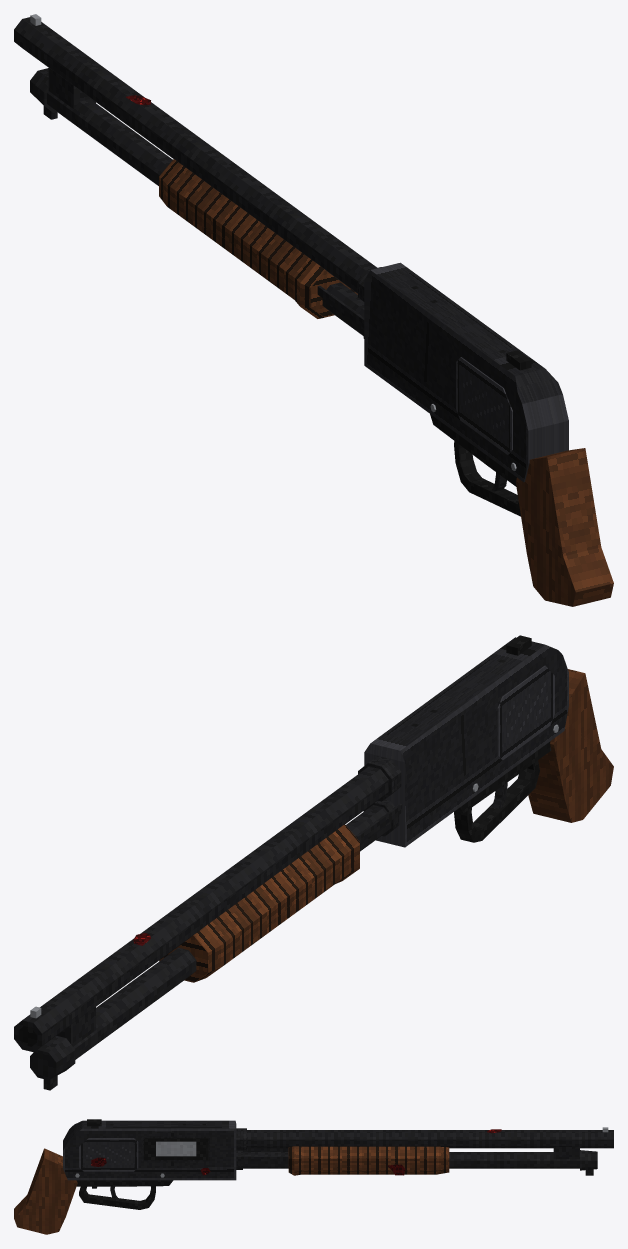
The model's file is shotgun.glb.
3 renders of one model, top to bottom at view 1: azimuth 30°, elevation 25°; view 2: azimuth 150°, elevation 25°; view 3: azimuth 270°, elevation 25°, orthographic. The views are drawn at different scales.
Parts seen in each view (by area): view 1: Shotgun, Pump; view 2: Shotgun, Pump; view 3: Shotgun, Pump.
Part boxes in pixels (x1,y1,x2,y2): Shotgun: (14, 14, 613, 606); Pump: (159, 159, 364, 328); Shotgun: (14, 635, 613, 1090); Pump: (159, 803, 402, 982); Shotgun: (14, 1119, 613, 1234); Pump: (236, 1146, 449, 1175).
Bounding box in the file's own units: 0.0455 × 0.1501 × 0.7472.
Materials: 8 (8 with a texture image).
